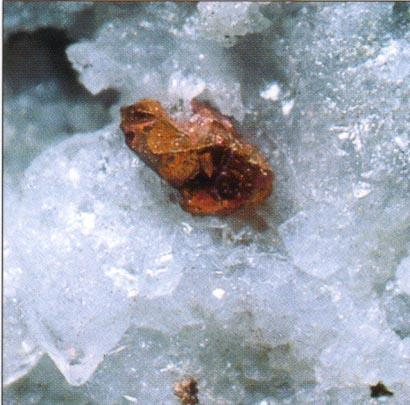copper: (121, 100, 274, 215)
